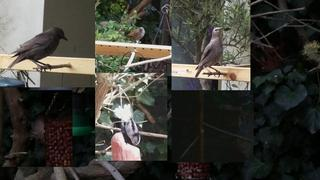dunnock: (121, 27, 145, 44)
long tailed tit: (125, 100, 141, 146)
mouse: (30, 114, 46, 144)
starling: (7, 27, 68, 73), (195, 27, 224, 78)
